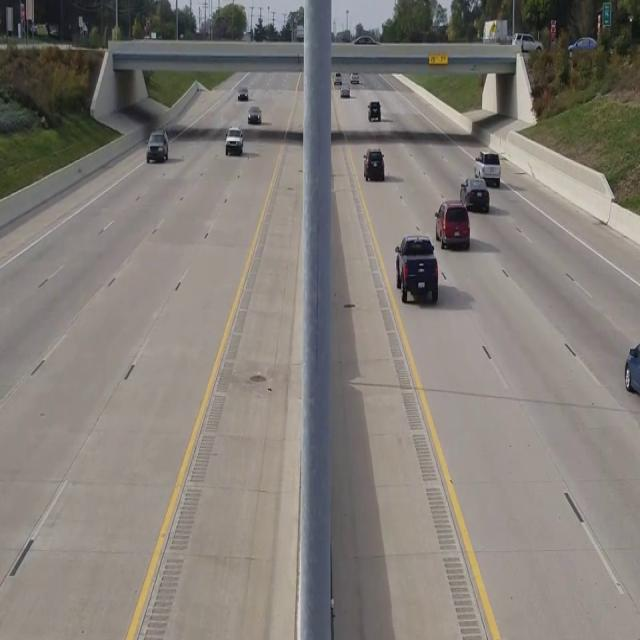car: (624, 336, 640, 418), (146, 130, 168, 162), (363, 148, 384, 180), (225, 124, 244, 156), (567, 36, 597, 54), (248, 105, 261, 124)
